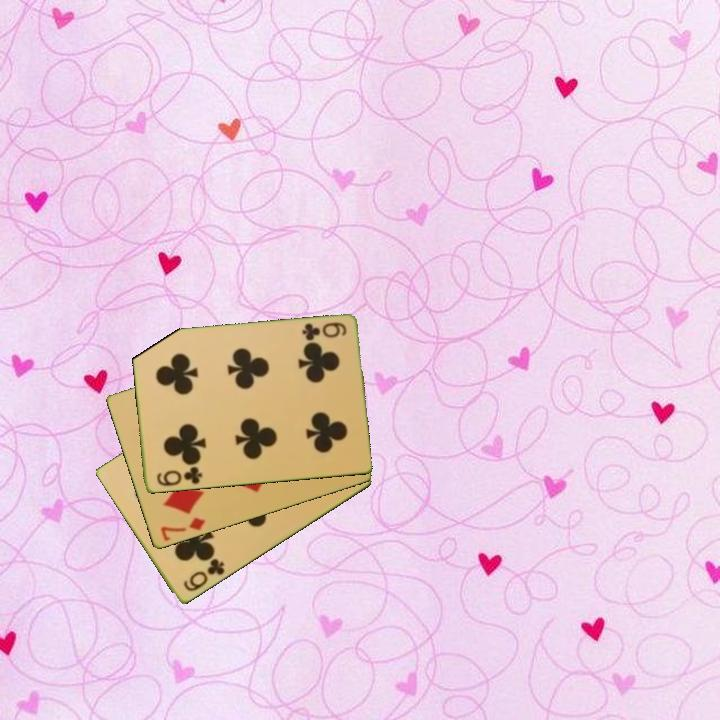6c: (180, 555, 228, 595), (153, 463, 205, 489), (298, 319, 349, 343)
7d: (157, 514, 208, 544)
